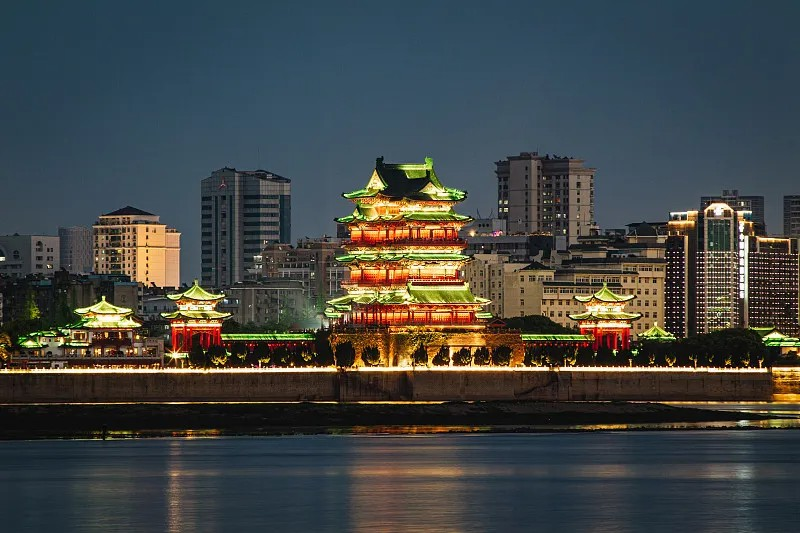Teng: (324, 155, 492, 326)
